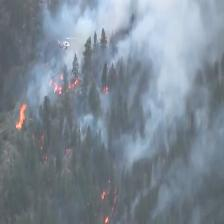smoke: (142, 2, 214, 73), (41, 14, 126, 40)
